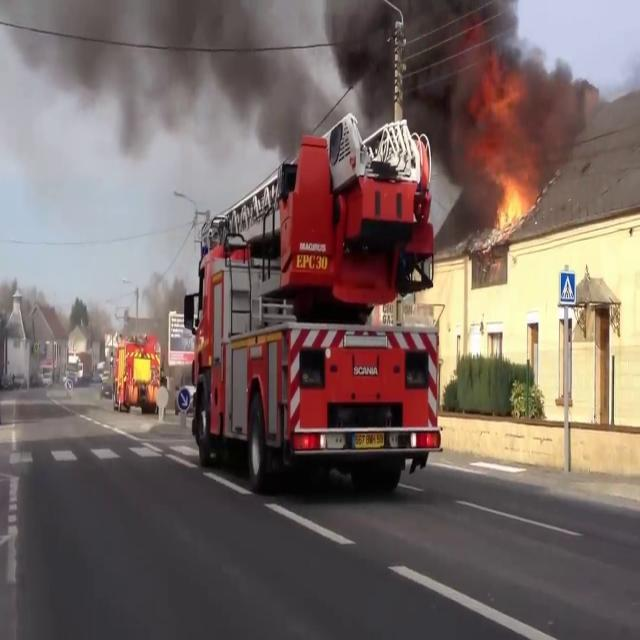Fire: (488, 176, 536, 236)
Smoke: (17, 0, 589, 157)
